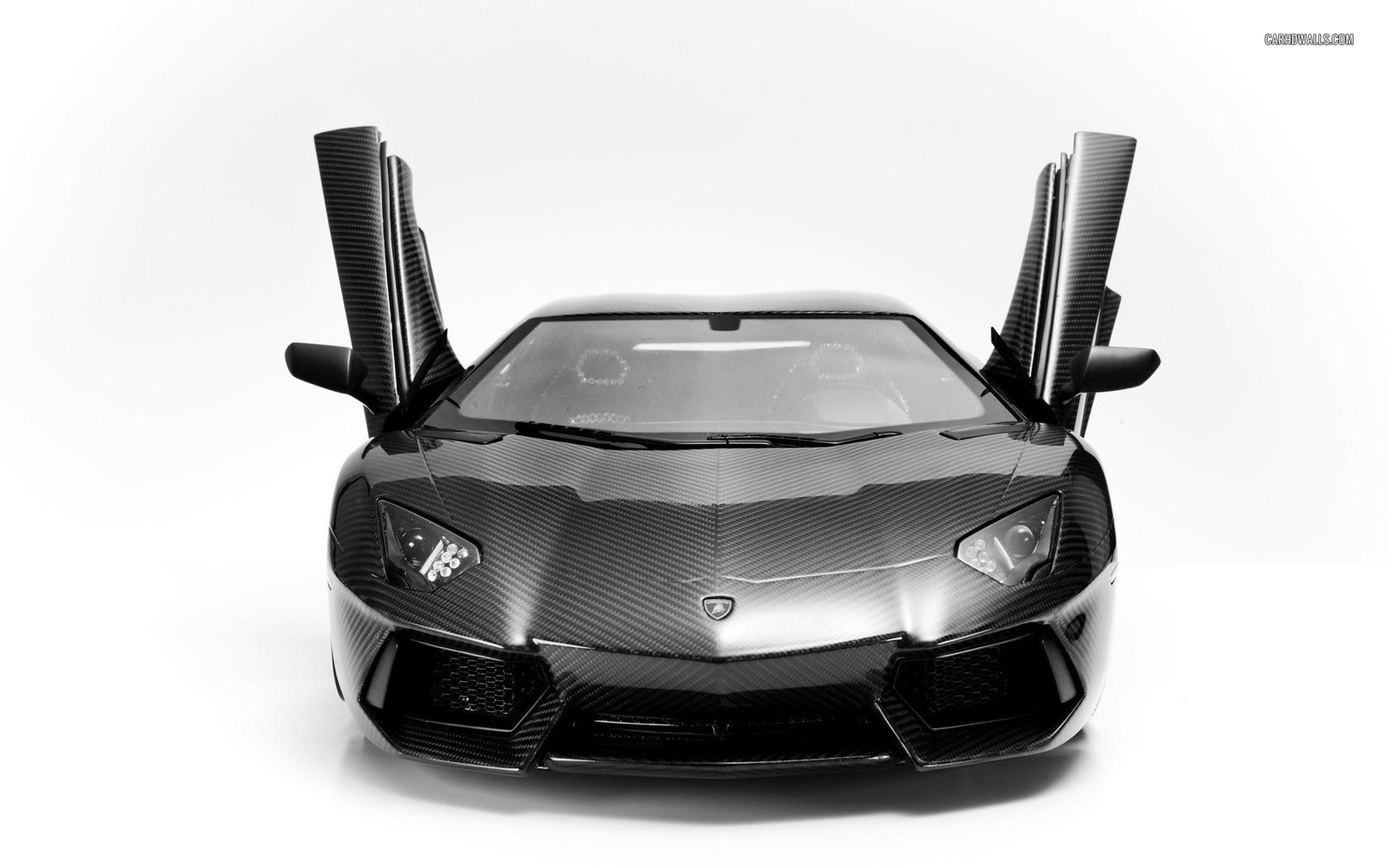car: (283, 122, 1162, 786)
